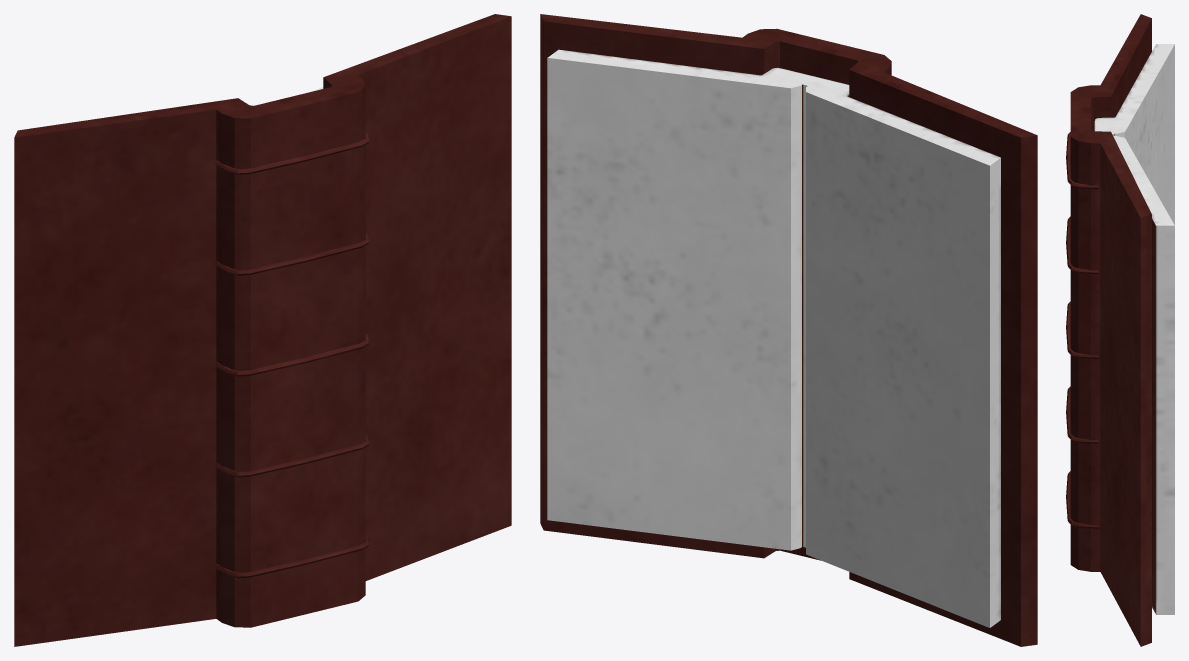
The model's file is SM_OpenBook_01.fbx.
The picture shows the model from 3 angles, left to right: view 1: azimuth 30°, elevation 25°; view 2: azimuth 150°, elevation 25°; view 3: azimuth 270°, elevation 25°; orthographic projection. The views are drawn at different scales.
Visible parts, largest first — view 1: BoolShelf_Low.003; view 2: BoolShelf_Low.003; view 3: BoolShelf_Low.003.
Part boxes in pixels (x1,y1,x2,y2): BoolShelf_Low.003: [14, 14, 511, 646]; BoolShelf_Low.003: [540, 14, 1037, 646]; BoolShelf_Low.003: [1066, 14, 1174, 646].
Size of the model in its own units: 70.58 by 69.34 by 15.9.
